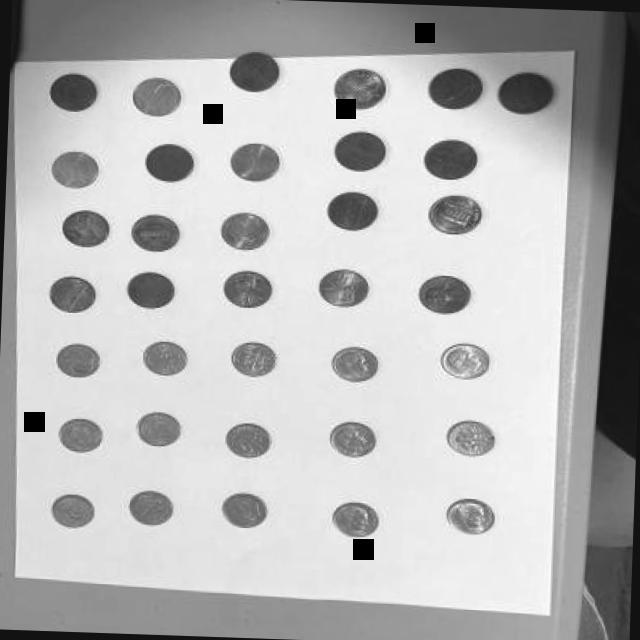Dime: (443, 493, 502, 537), (328, 340, 383, 380), (51, 339, 104, 380), (446, 415, 500, 455), (326, 499, 380, 538), (218, 489, 270, 529), (132, 410, 185, 449), (220, 419, 274, 457), (438, 340, 492, 378), (123, 486, 176, 524), (52, 415, 102, 454), (328, 418, 378, 456), (47, 491, 98, 528), (141, 338, 190, 376), (230, 337, 278, 375)
Penny: (496, 64, 556, 112), (420, 134, 481, 178), (216, 265, 276, 309), (330, 128, 390, 172), (216, 203, 271, 250), (324, 185, 379, 232), (332, 64, 388, 109), (226, 138, 282, 182), (222, 50, 282, 90), (428, 63, 482, 107), (425, 192, 484, 232), (140, 138, 196, 180), (48, 145, 100, 189), (128, 209, 184, 249), (414, 272, 469, 312), (318, 264, 373, 304), (134, 72, 184, 116), (122, 268, 176, 308), (48, 270, 96, 314), (62, 204, 111, 246), (50, 68, 99, 109)
